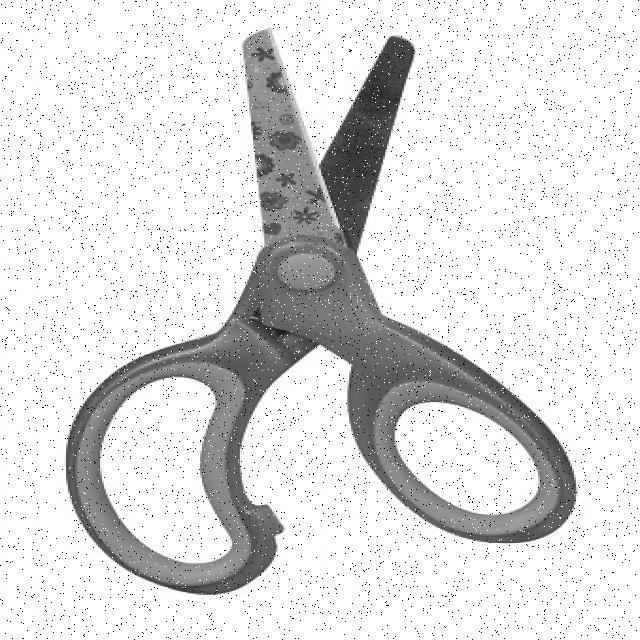scissors: (65, 22, 582, 598)
